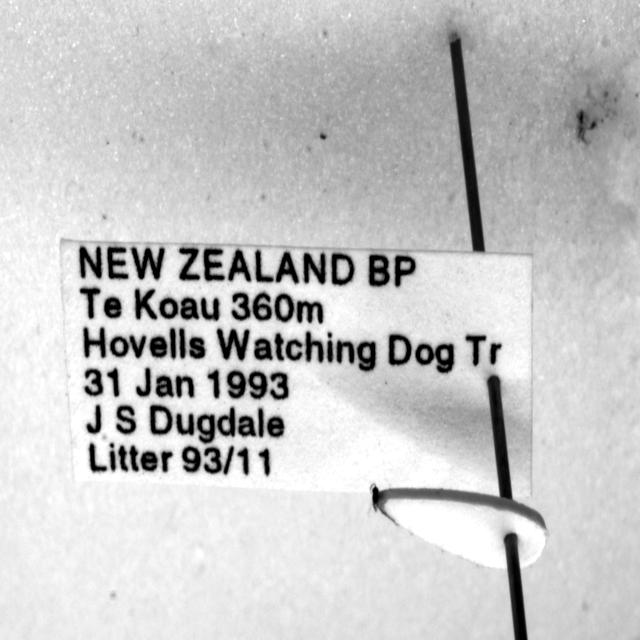typed_label: (61, 240, 532, 497)
